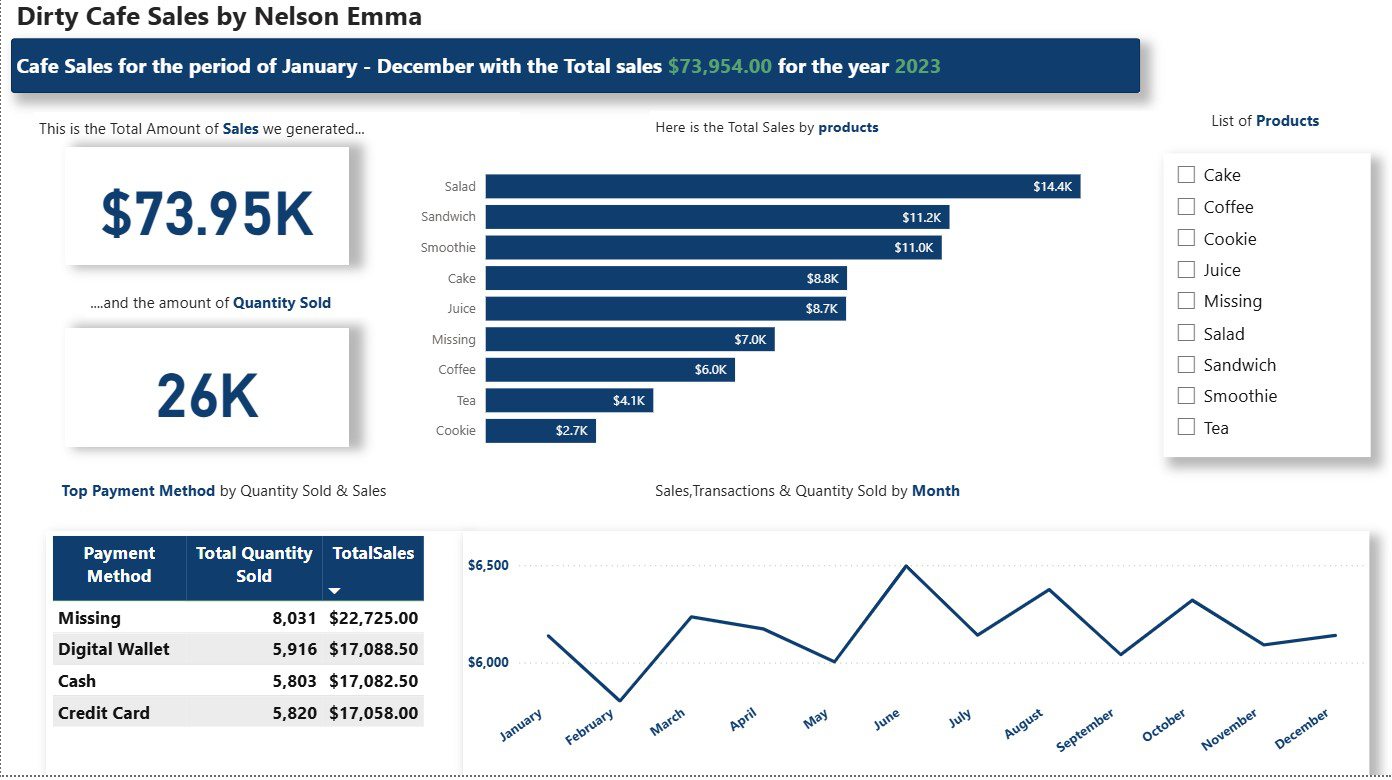

The dashboard page shown, as its layout file describes it:
{"tool":"powerbi","page":{"name":"Page 2","canvas":[1280,720],"ordinal":1},"visuals":[{"type":"textbox","box":[9.6,0,655.6,56.3],"z":0},{"type":"shape","box":[9.6,41.9,1037.9,50.3],"z":1000},{"type":"textbox","box":[9.6,49.1,915.7,36],"z":2000},{"type":"textbox","box":[30,110.3,447,32.4],"z":3000},{"type":"card","fields":{"Values":["MeasureTbl.TotalSales"]},"box":[58.7,142.6,261.3,109.1],"z":4000},{"type":"card","fields":{"Values":["MeasureTbl.Total Quantity Sold"]},"box":[58.7,309.2,261.3,109.1],"z":5000},{"type":"textbox","box":[76.7,269.7,261.3,28.8],"z":6000},{"type":"textbox","box":[1064.3,103.1,194.2,39.6],"z":7000},{"type":"slicer","fields":{"Values":["dirty_cafe_sales.Item"]},"box":[1067.9,148.6,190.6,279.3],"z":8000},{"type":"clusteredBarChart","fields":{"Category":["dirty_cafe_sales.Item"],"Y":["MeasureTbl.TotalSales"]},"box":[375.1,143.8,672.4,287.6],"z":9000},{"type":"tableEx","fields":{"Values":["dirty_cafe_sales.Payment Method","MeasureTbl.Total Quantity Sold","MeasureTbl.TotalSales"]},"box":[41.8,494.9,382.3,225.1],"z":9001},{"type":"textbox","box":[595.9,109.6,471.8,31.7],"z":9002},{"type":"lineChart","fields":{"Category":["DateTbl.Date.Variation.Date Hierarchy.Month"],"Y":["MeasureTbl.TotalSales"]},"box":[424.2,494.9,833.9,225.1],"z":9003},{"type":"textbox","box":[595.9,442.9,434.3,40.4],"z":9004},{"type":"textbox","box":[50.5,442.9,373.7,40.4],"z":9005}]}

Visuals, with their boxes in screenshot pixels (x1, y1, x2, y2), scaled from the page's 1280x720 canvas onto the 1392x780 screenshot:
textbox: 10,0,723,61
shape: 10,45,1139,100
textbox: 10,53,1006,92
textbox: 33,119,519,155
card - MeasureTbl.TotalSales: 64,154,348,273
card - MeasureTbl.Total Quantity Sold: 64,335,348,453
textbox: 83,292,368,323
textbox: 1157,112,1369,155
slicer - dirty_cafe_sales.Item: 1161,161,1369,464
clusteredBarChart - dirty_cafe_sales.Item x MeasureTbl.TotalSales: 408,156,1139,467
tableEx - dirty_cafe_sales.Payment Method x MeasureTbl.Total Quantity Sold: 45,536,461,779
textbox: 648,119,1161,153
lineChart - DateTbl.Date.Variation.Date Hierarchy.Month x MeasureTbl.TotalSales: 461,536,1368,779
textbox: 648,480,1120,524
textbox: 55,480,461,524
